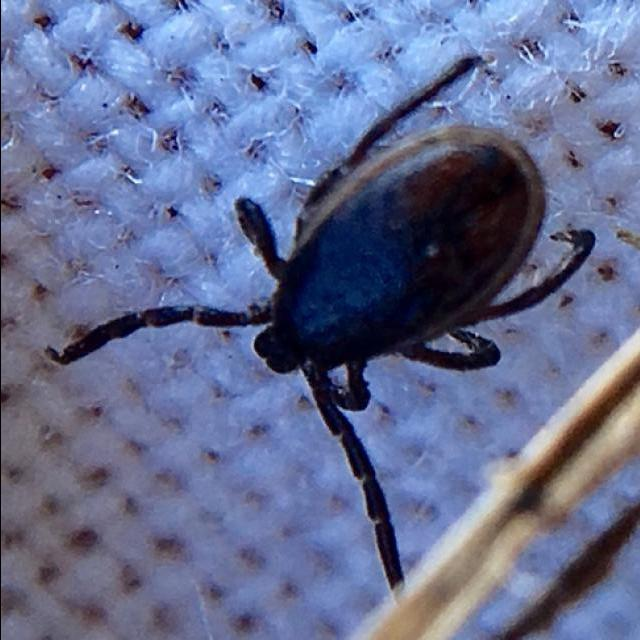Ixodes Ricinus-M: (47, 54, 597, 590)
